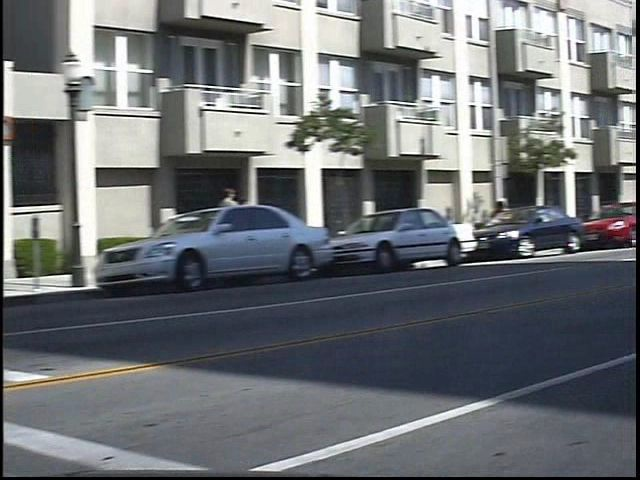person: (231, 183, 255, 263), (251, 192, 271, 256)
